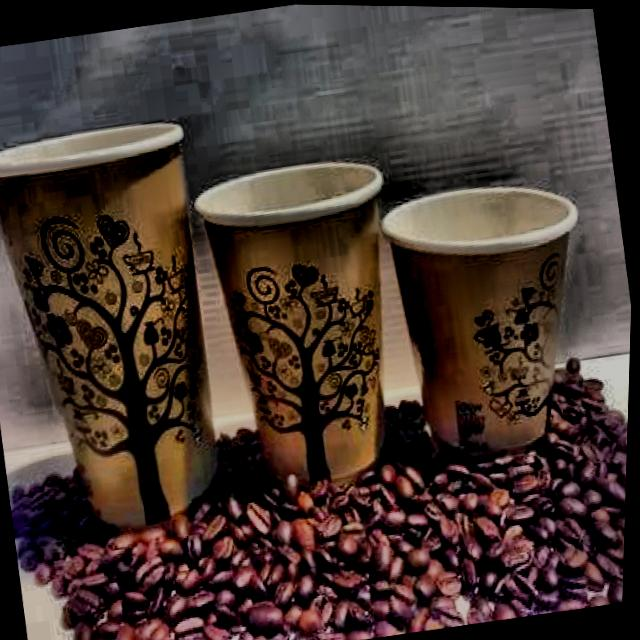Cup: (0, 102, 245, 542), (185, 136, 430, 502), (374, 147, 611, 467)
